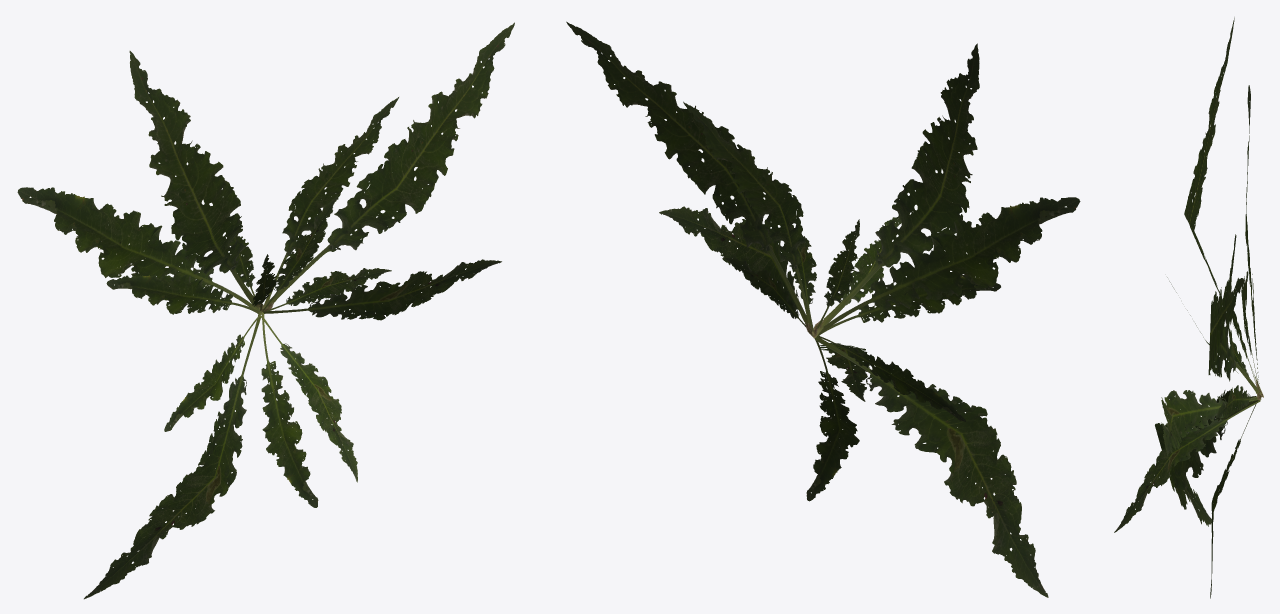
Rendered from Weed_03_Var2_LOD2.fbx.
3 views of the same model, side by side, from view 1: azimuth 30°, elevation 25°; view 2: azimuth 150°, elevation 25°; view 3: azimuth 270°, elevation 25° (orthographic). The views are drawn at different scales.
Parts seen in each view (by area): view 1: Var2_LOD2; view 2: Var2_LOD2; view 3: Var2_LOD2.
Boxes of the visible parts, x1=… form: Var2_LOD2: x1=17, y1=22, x2=514, y2=599; Var2_LOD2: x1=566, y1=21, x2=1080, y2=597; Var2_LOD2: x1=1114, y1=17, x2=1263, y2=598.
Bounding box in the file's own units: 52.64 × 53.13 × 13.45.
